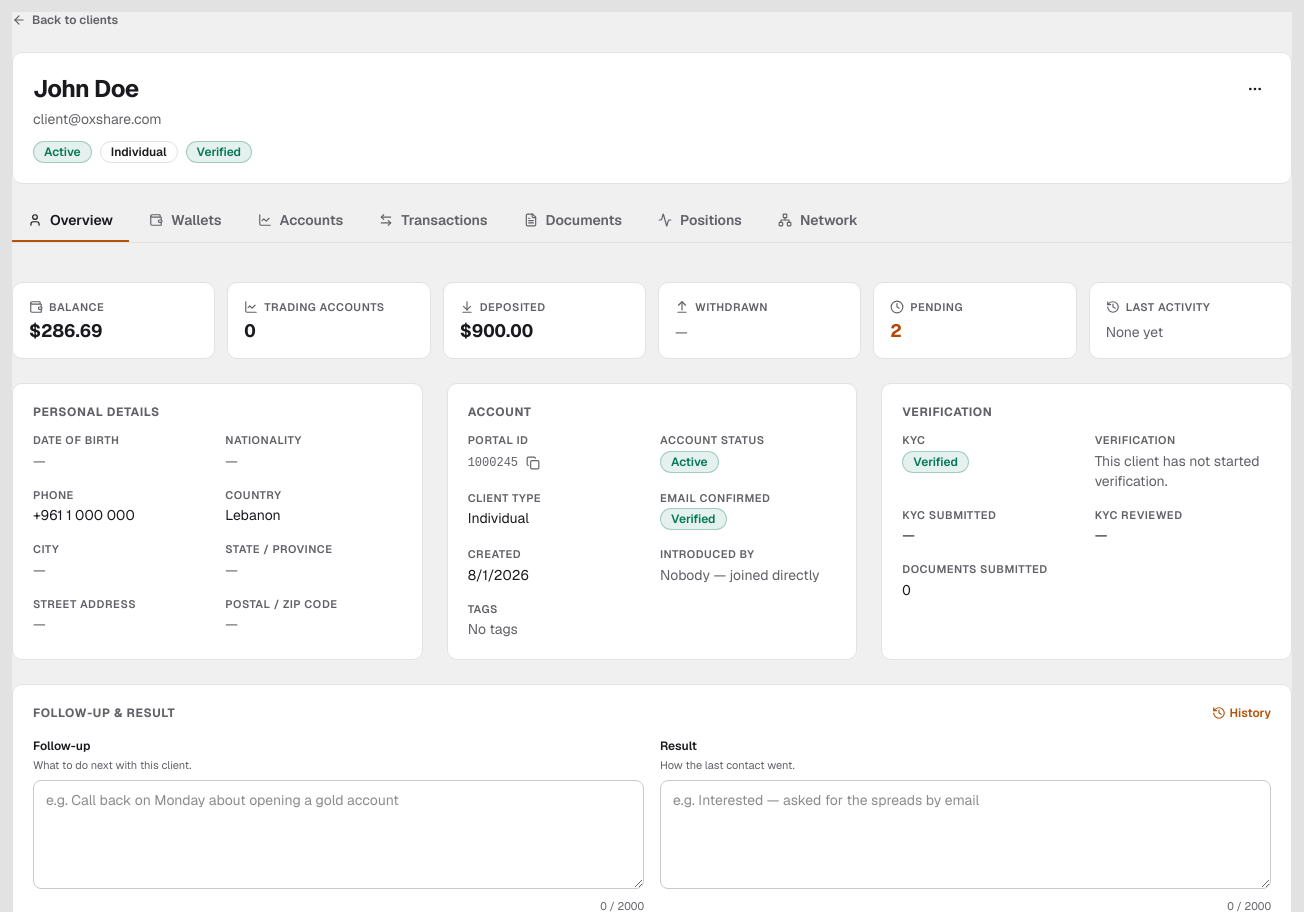
it: the actions menu (owner, 26 Sep and 7 Oct 2026) › offers an individual "Make partner", and no partner structure items
This screenshot has width=1304, height=912.
Click the button named "actions for": (1255, 89) [1239,73,1271,105]
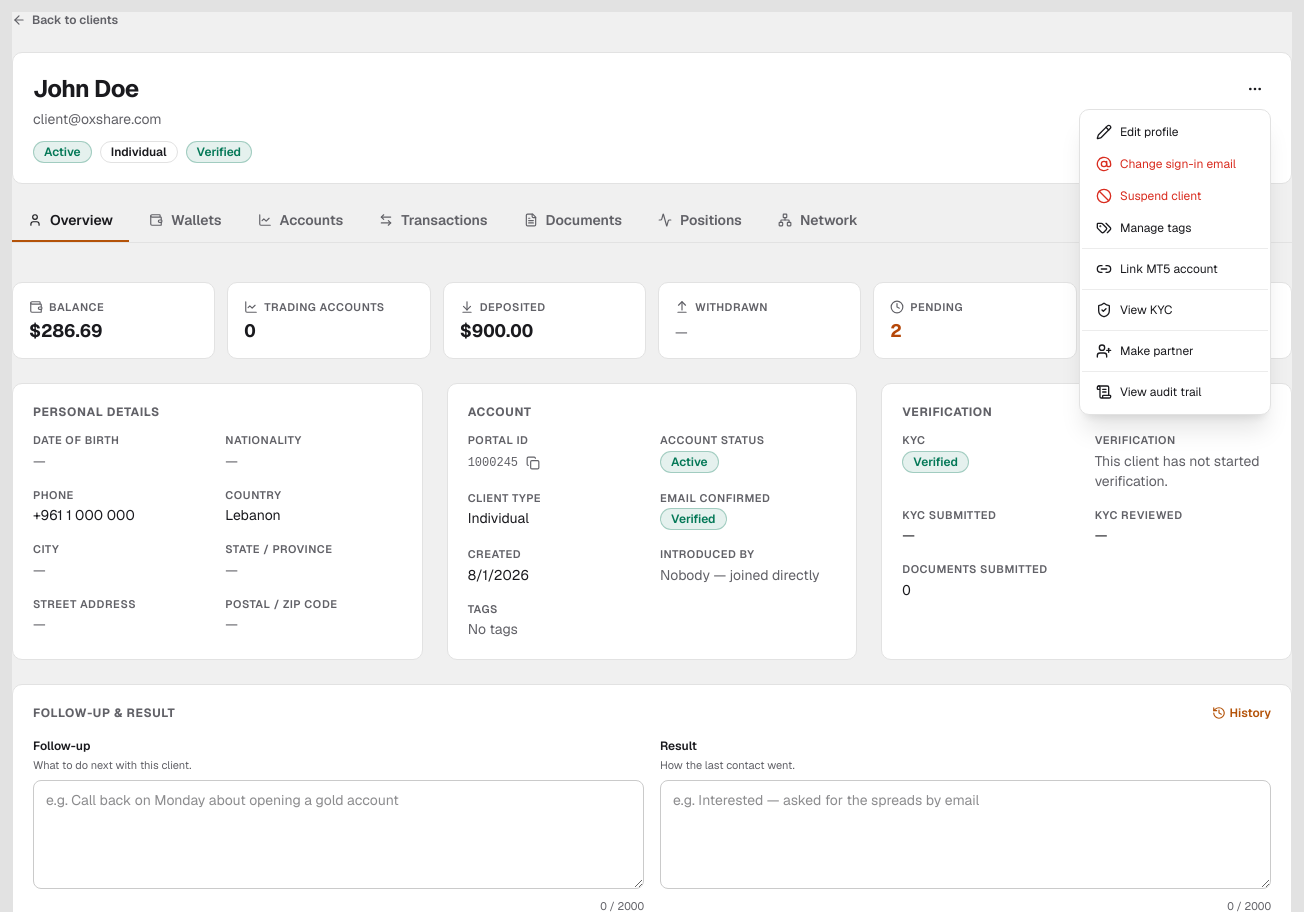
Expected: the menu item "Edit profile" is shown, [1096,124,1179,140]
Expected: the menu item "Make partner" is shown, [1096,343,1194,359]
